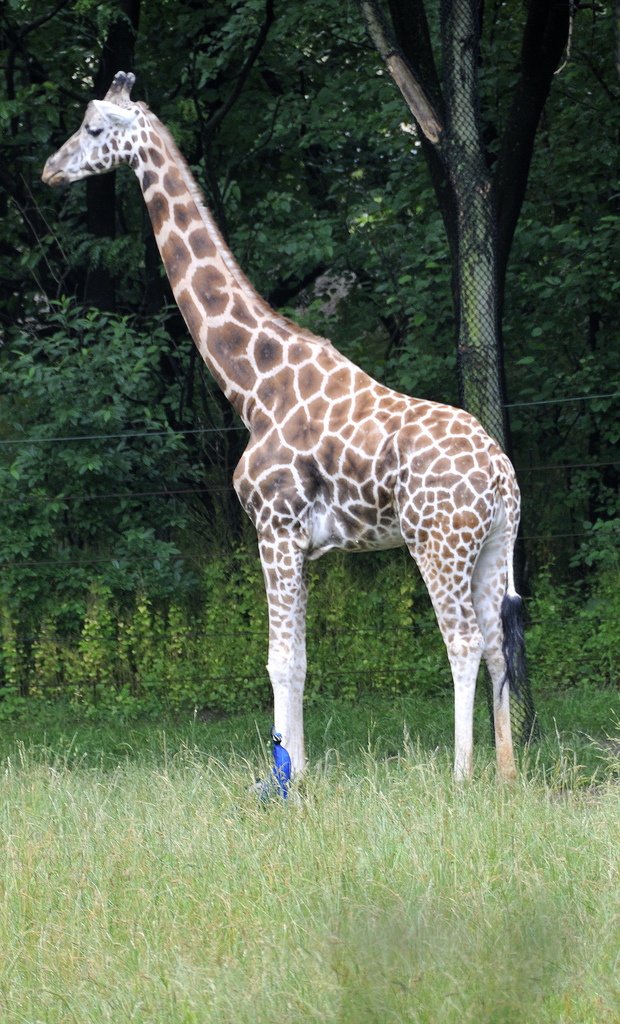giraffe: (56, 60, 602, 800)
